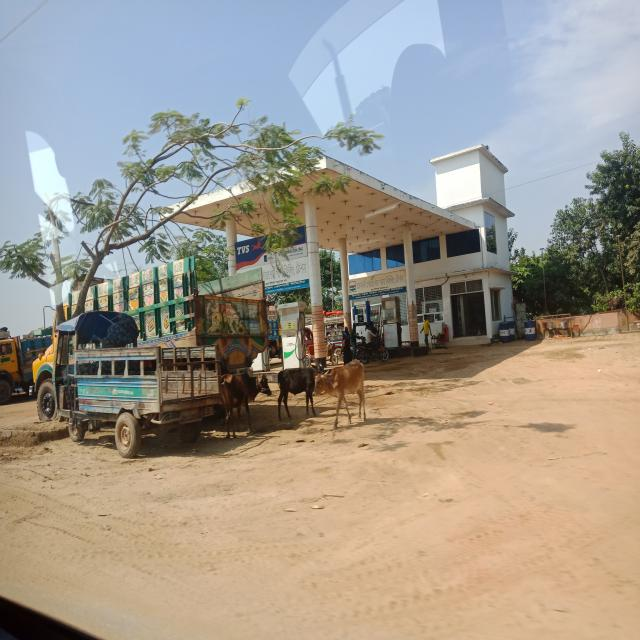motorbike: (357, 326, 393, 370)
truck: (33, 277, 103, 425), (0, 324, 40, 402)
